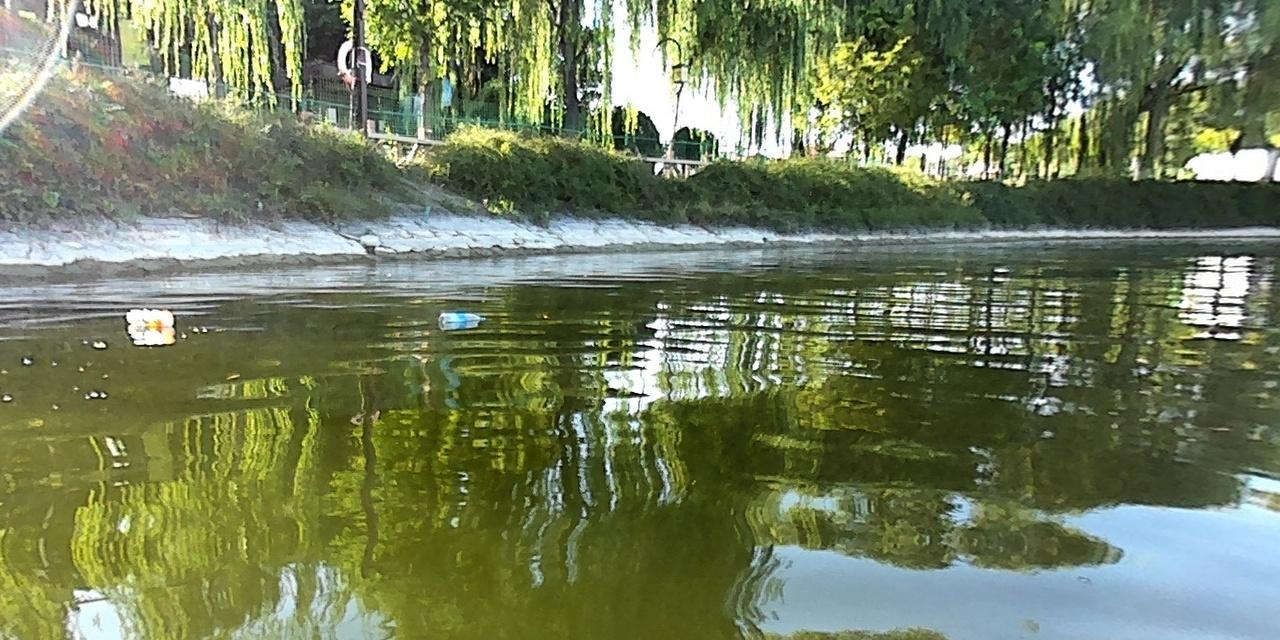bottle: (123, 309, 179, 330), (434, 309, 487, 325)
